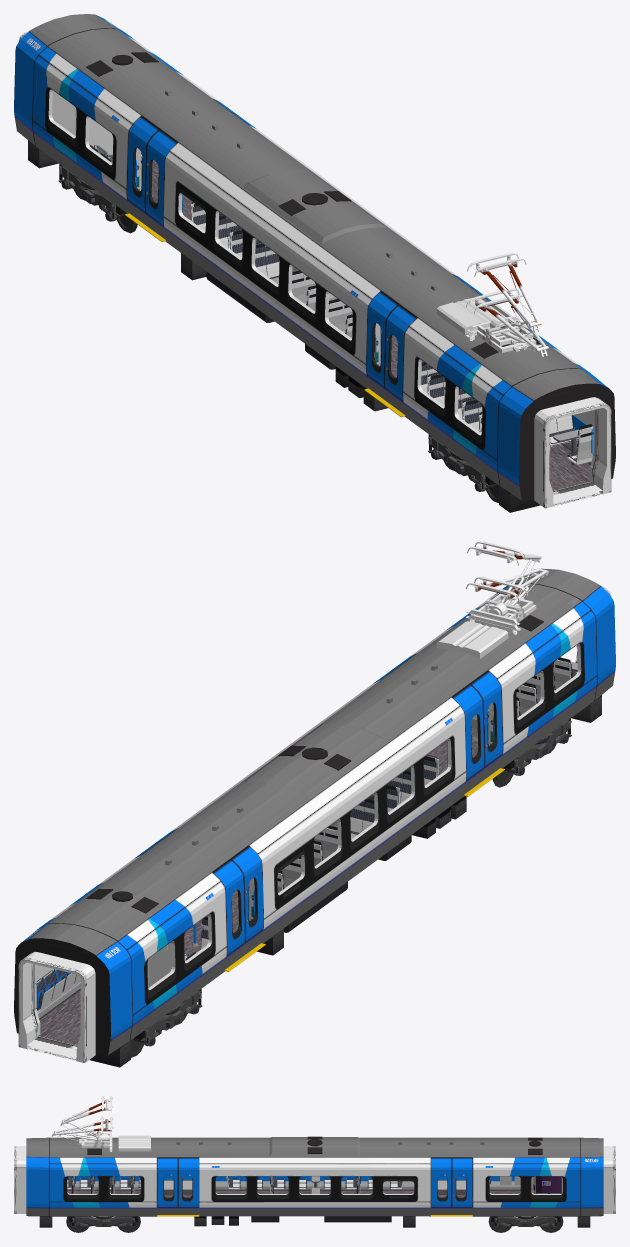
Rendered from wmt_class730_m_lnwr.obj.
3 views of the same model, one above another, from view 1: azimuth 30°, elevation 25°; view 2: azimuth 150°, elevation 25°; view 3: azimuth 270°, elevation 25° (orthographic). The views are drawn at different scales.
Parts seen in each view (by area): view 1: m_side, m_jibung, m_oscarchair, m_mak, m_panto, m_habu, m_door_RB, m_door_RF, m_dt71, m_backout, m_panto6m, m_floor (+4 smaller); view 2: m_side, m_jibung, m_mak, m_oscarchair, m_panto, m_habu, m_floor, m_door_RB, m_door_RF, m_dt71, m_backout, m_panto6m (+4 smaller); view 3: m_side, m_jibung, m_heater, m_dt71, m_mak, m_habu, m_door_LB, m_door_LF, m_oscarchair, m_panto, m_floor, m_panto6m (+6 smaller).
Boxes of the visible parts, x1,y1,x2,y2 form: m_side: (14, 15, 615, 500); m_jibung: (29, 14, 600, 400); m_oscarchair: (218, 214, 593, 465); m_mak: (18, 32, 611, 508); m_panto: (436, 288, 548, 357); m_habu: (28, 140, 540, 512); m_door_RB: (126, 130, 386, 401); m_door_RF: (145, 144, 405, 414); m_dt71: (58, 164, 498, 503); m_backout: (522, 383, 612, 499); m_panto6m: (466, 253, 541, 345); m_floor: (141, 152, 591, 490); m_side: (14, 579, 615, 1055); m_jibung: (29, 568, 600, 954); m_mak: (18, 586, 611, 1062); m_oscarchair: (281, 646, 577, 888); m_panto: (436, 568, 548, 658); m_habu: (89, 695, 601, 1067); m_floor: (38, 723, 488, 1045); m_door_RB: (224, 698, 484, 969); m_door_RF: (243, 685, 503, 955); m_dt71: (131, 718, 571, 1057); m_backout: (17, 938, 107, 1054); m_panto6m: (466, 541, 541, 632); m_side: (26, 1156, 603, 1216); m_jibung: (26, 1137, 603, 1157); m_heater: (67, 1176, 520, 1190); m_dt71: (66, 1216, 563, 1232); m_mak: (14, 1146, 615, 1213); m_habu: (27, 1215, 602, 1227); m_door_LB: (178, 1167, 473, 1214); m_door_LF: (157, 1167, 451, 1214); m_oscarchair: (67, 1176, 372, 1193); m_panto: (51, 1116, 150, 1151); m_floor: (67, 1189, 520, 1197); m_panto6m: (60, 1096, 112, 1148).
Size of the model in its own units: 2.88 by 5.74 by 25.23.
29 materials, 29 textured.
